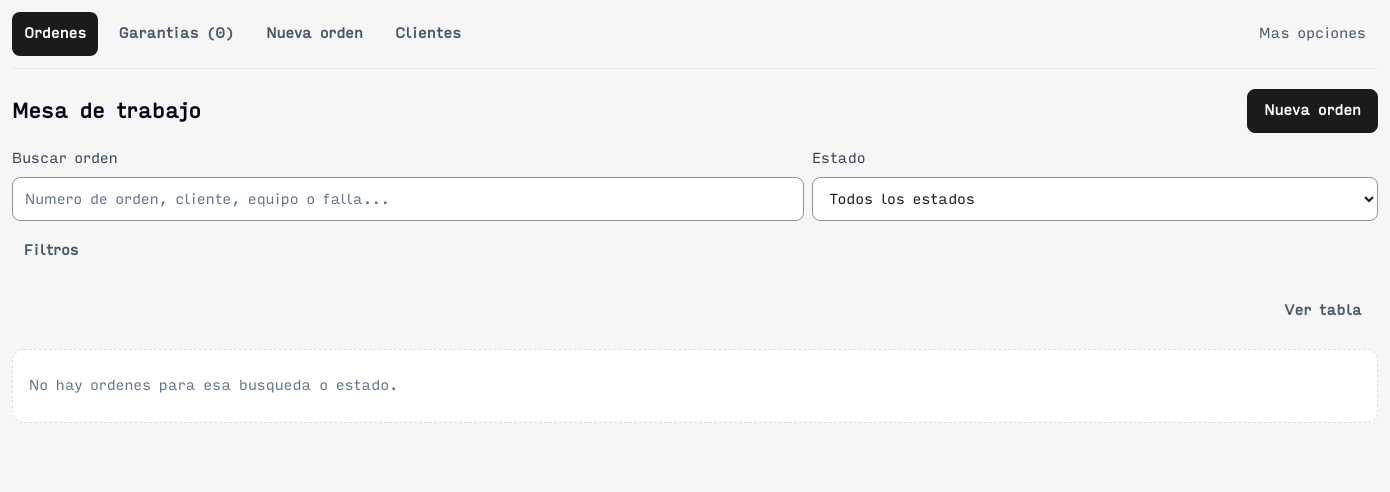
Test: workshop section navigation › keeps warranty returns in primary navigation and secondary tools in an accessible disclosure
Click the heading "Mas opciones" at (1313, 34), box top-left (1259, 25), bottom-right (1366, 42)
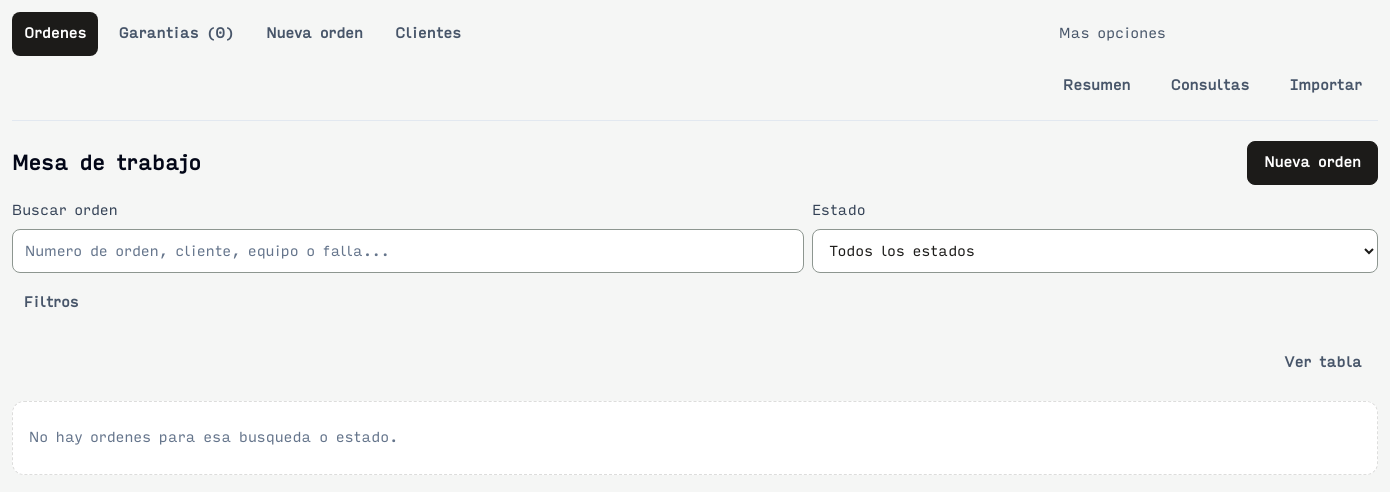
Result: the button "Resumen" is shown at top-left (1047, 64), bottom-right (1147, 108)
Result: the button "Consultas" is shown at top-left (1154, 64), bottom-right (1265, 108)
Result: the button "Importar" is shown at top-left (1274, 64), bottom-right (1378, 108)
